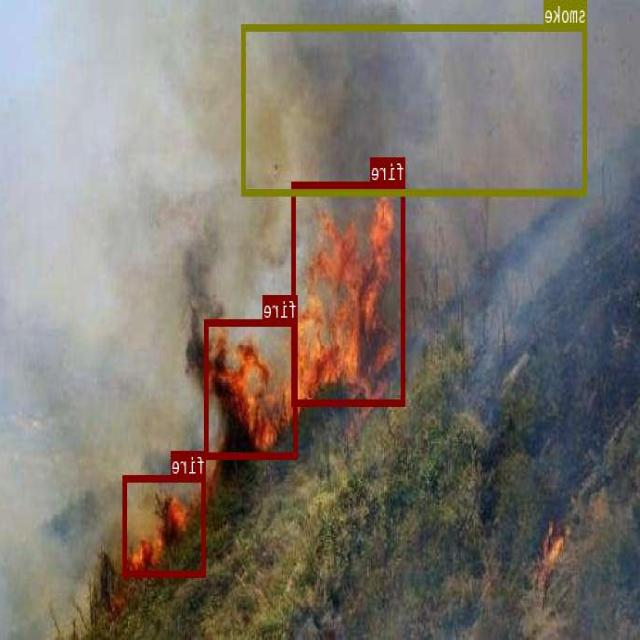fire: (293, 182, 406, 404), (205, 318, 298, 458), (124, 474, 206, 576)
smoke: (242, 24, 588, 194)
